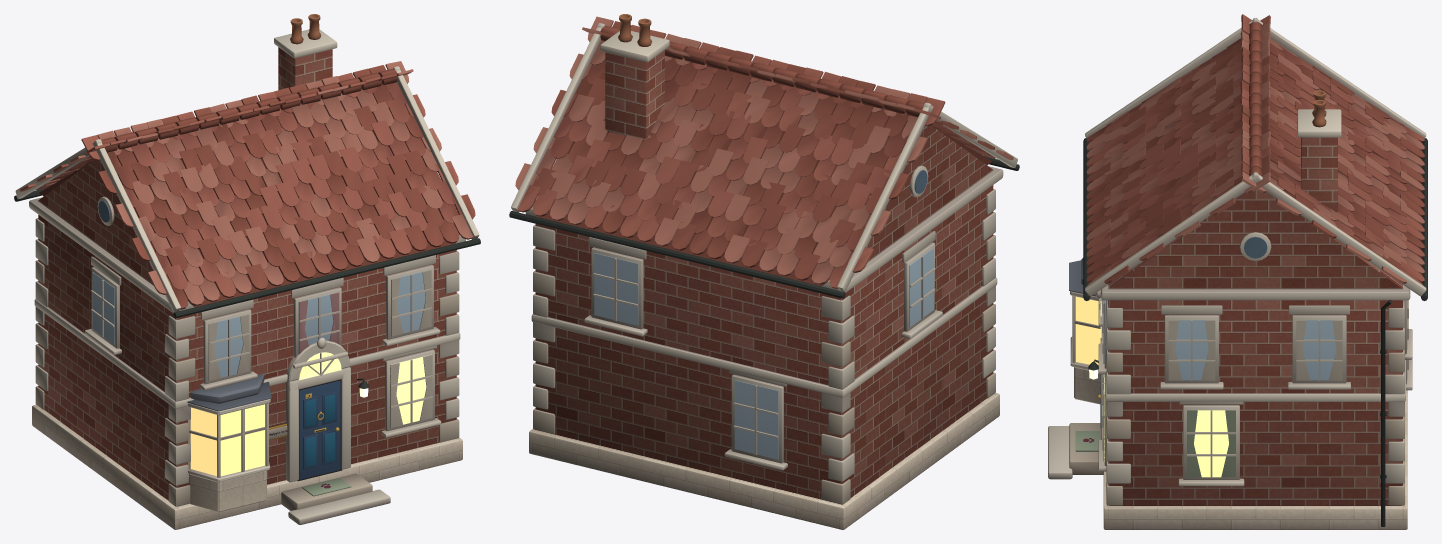
Rendered from home-exterior.glb.
The picture shows the model from 3 angles, left to right: view 1: azimuth 30°, elevation 25°; view 2: azimuth 150°, elevation 25°; view 3: azimuth 270°, elevation 25°; orthographic projection. The views are drawn at different scales.
Parts seen in each view (by area): view 1: Home_Walls, Home_Roof, Door_Home; view 2: Home_Walls, Home_Roof; view 3: Home_Walls, Home_Roof.
Boxes of the visible parts, x1,y1,x2,y2 form: Home_Walls: (15, 66, 479, 529); Home_Roof: (14, 14, 480, 318); Door_Home: (299, 380, 340, 479); Home_Walls: (511, 23, 1017, 529); Home_Roof: (509, 14, 1019, 298); Home_Walls: (1048, 18, 1426, 529); Home_Roof: (1083, 14, 1427, 300).
Size of the model in its own units: 7.97 by 9.08 by 7.74.
9 materials, 2 textured.
